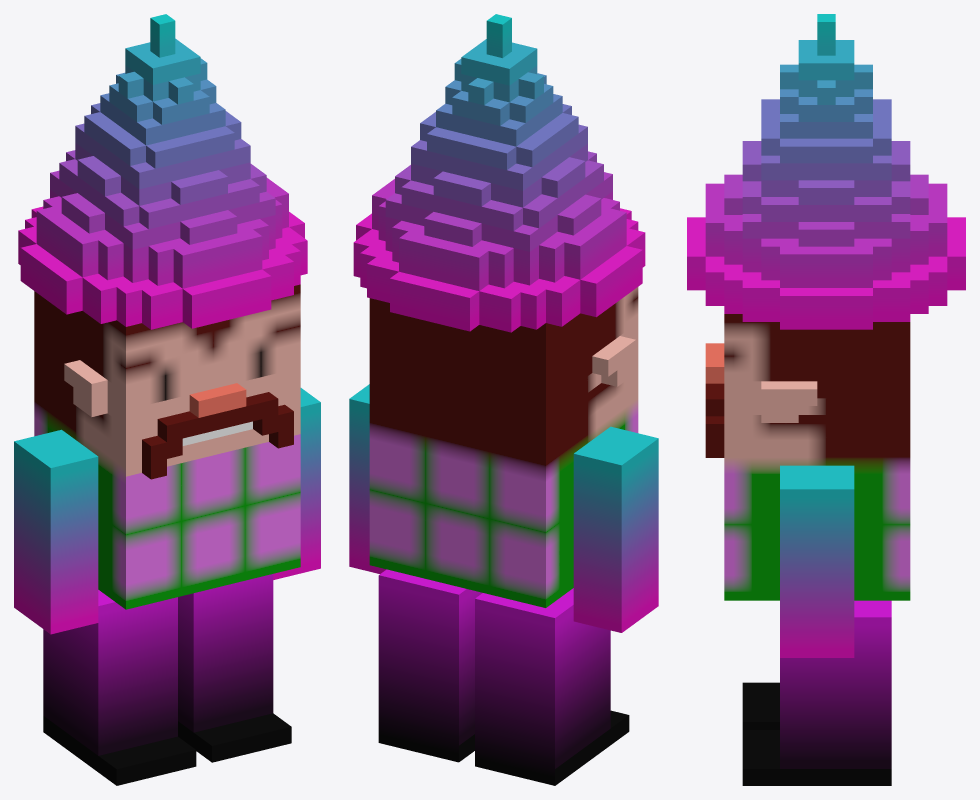
Rendered from Andy.fbx.
3 views of the same model, side by side, from view 1: azimuth 30°, elevation 25°; view 2: azimuth 150°, elevation 25°; view 3: azimuth 270°, elevation 25° (orthographic).
Visible parts, largest first — view 1: Main, RightFoot, LeftFoot, RightHand, LeftHand; view 2: Main, RightFoot, LeftFoot, RightHand, LeftHand; view 3: Main, LeftFoot, LeftHand, RightFoot.
Boxes of the visible parts, bbox=[...] form: Main: bbox=[18, 14, 307, 609]; RightFoot: bbox=[43, 590, 196, 785]; LeftFoot: bbox=[178, 574, 291, 762]; RightHand: bbox=[14, 429, 98, 634]; LeftHand: bbox=[273, 388, 320, 579]; Main: bbox=[353, 14, 645, 607]; RightFoot: bbox=[475, 588, 629, 785]; LeftFoot: bbox=[378, 569, 482, 762]; RightHand: bbox=[573, 426, 658, 632]; LeftHand: bbox=[349, 384, 386, 573]; Main: bbox=[687, 14, 965, 600]; LeftFoot: bbox=[742, 600, 891, 785]; LeftHand: bbox=[780, 465, 854, 657]; RightFoot: bbox=[742, 682, 779, 729].
Size of the model in its own units: 17 by 43 by 15.
1 material, 1 textured.
